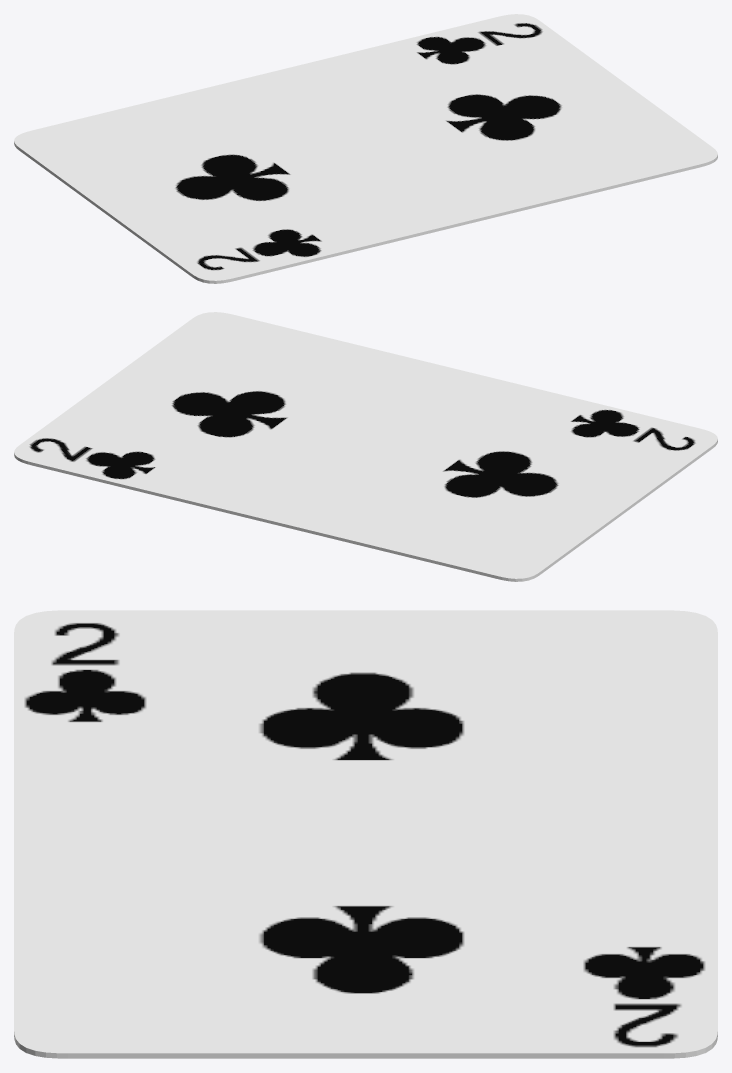
File: 2_of_clubs.gltf
The picture shows the model from 3 angles, top to bottom: view 1: azimuth 30°, elevation 25°; view 2: azimuth 150°, elevation 25°; view 3: azimuth 270°, elevation 25°; orthographic projection. The views are drawn at different scales.
Visible parts, largest first — view 1: Plane; view 2: Plane; view 3: Plane.
Boxes of the visible parts, x1,y1,x2,y2 form: Plane: (14,14,717,283); Plane: (14,312,717,581); Plane: (14,610,717,1058).
Size of the model in its own units: 0.09 by 0.0005 by 0.0605.
1 material, 1 textured.
